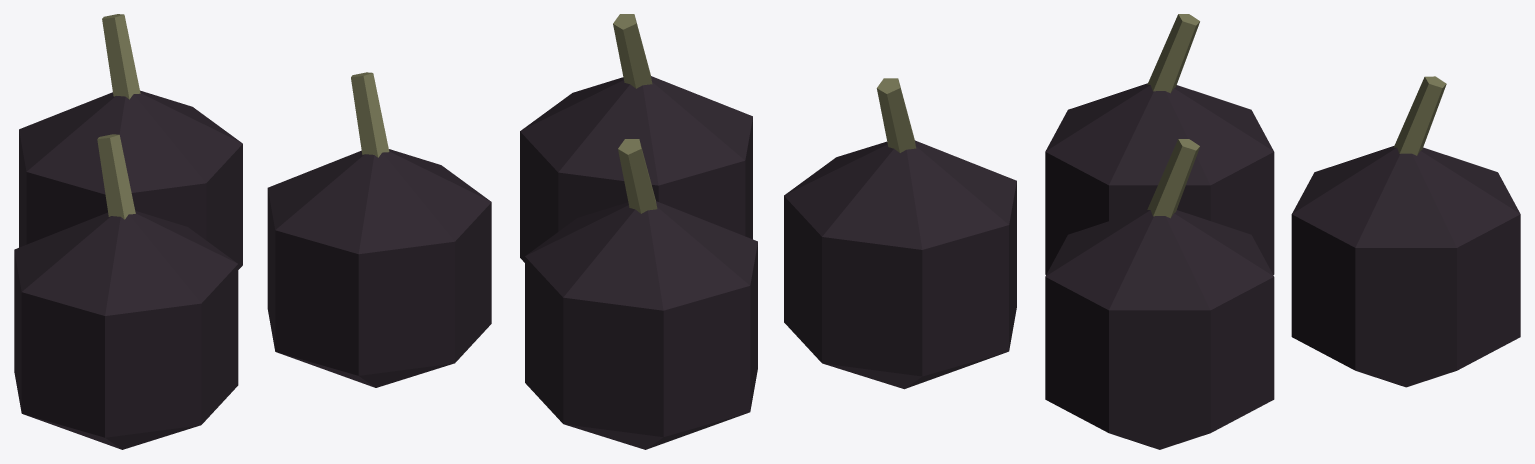
The model's file is ce_ammo2_ballgren_std_b.obj.
3 views of the same model, side by side, from view 1: azimuth 30°, elevation 25°; view 2: azimuth 150°, elevation 25°; view 3: azimuth 270°, elevation 25° (orthographic). The views are drawn at different scales.
Visible parts, largest first — view 1: ce_ammo2_ballgren_std_b_2, ce_ammo2_ballgren_std_b_0, ce_ammo2_ballgren_std_b_4, ce_ammo2_ballgren_std_b_3, ce_ammo2_ballgren_std_b_1, ce_ammo2_ballgren_std_b_5; view 2: ce_ammo2_ballgren_std_b_4, ce_ammo2_ballgren_std_b_0, ce_ammo2_ballgren_std_b_2, ce_ammo2_ballgren_std_b_1, ce_ammo2_ballgren_std_b_3, ce_ammo2_ballgren_std_b_5; view 3: ce_ammo2_ballgren_std_b_4, ce_ammo2_ballgren_std_b_2, ce_ammo2_ballgren_std_b_0, ce_ammo2_ballgren_std_b_5, ce_ammo2_ballgren_std_b_1, ce_ammo2_ballgren_std_b_3.
Boxes of the visible parts, <box> form: ce_ammo2_ballgren_std_b_2: <box>267,149,491,387</box>; ce_ammo2_ballgren_std_b_0: <box>14,211,238,449</box>; ce_ammo2_ballgren_std_b_4: <box>19,90,242,269</box>; ce_ammo2_ballgren_std_b_3: <box>351,72,389,157</box>; ce_ammo2_ballgren_std_b_1: <box>97,134,135,219</box>; ce_ammo2_ballgren_std_b_5: <box>102,14,140,99</box>; ce_ammo2_ballgren_std_b_4: <box>525,201,757,449</box>; ce_ammo2_ballgren_std_b_0: <box>784,140,1016,389</box>; ce_ammo2_ballgren_std_b_2: <box>520,76,752,262</box>; ce_ammo2_ballgren_std_b_1: <box>876,78,916,152</box>; ce_ammo2_ballgren_std_b_3: <box>613,14,652,88</box>; ce_ammo2_ballgren_std_b_5: <box>618,139,657,213</box>; ce_ammo2_ballgren_std_b_4: <box>1291,146,1520,387</box>; ce_ammo2_ballgren_std_b_2: <box>1045,208,1274,449</box>; ce_ammo2_ballgren_std_b_0: <box>1045,83,1274,274</box>; ce_ammo2_ballgren_std_b_5: <box>1393,76,1446,155</box>; ce_ammo2_ballgren_std_b_1: <box>1147,14,1199,93</box>; ce_ammo2_ballgren_std_b_3: <box>1147,139,1199,218</box>.
Size of the model in its own units: 0.4211 by 0.277 by 0.3858.
